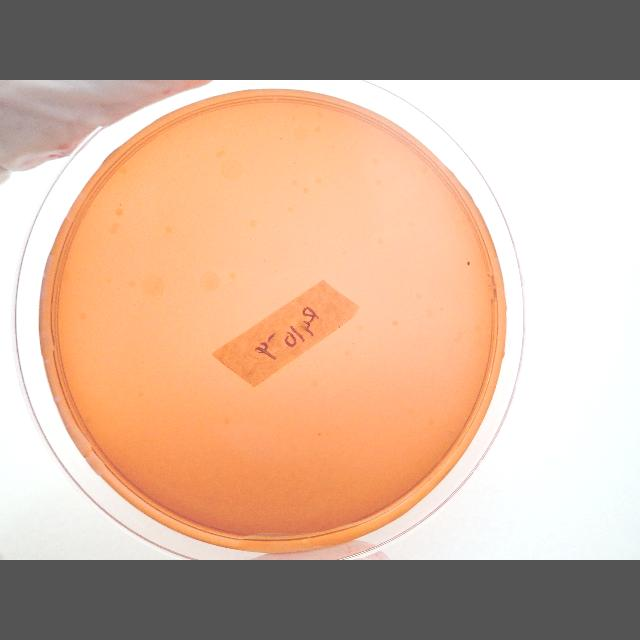colony: (467, 260, 471, 266), (118, 201, 122, 207), (280, 136, 282, 142)
